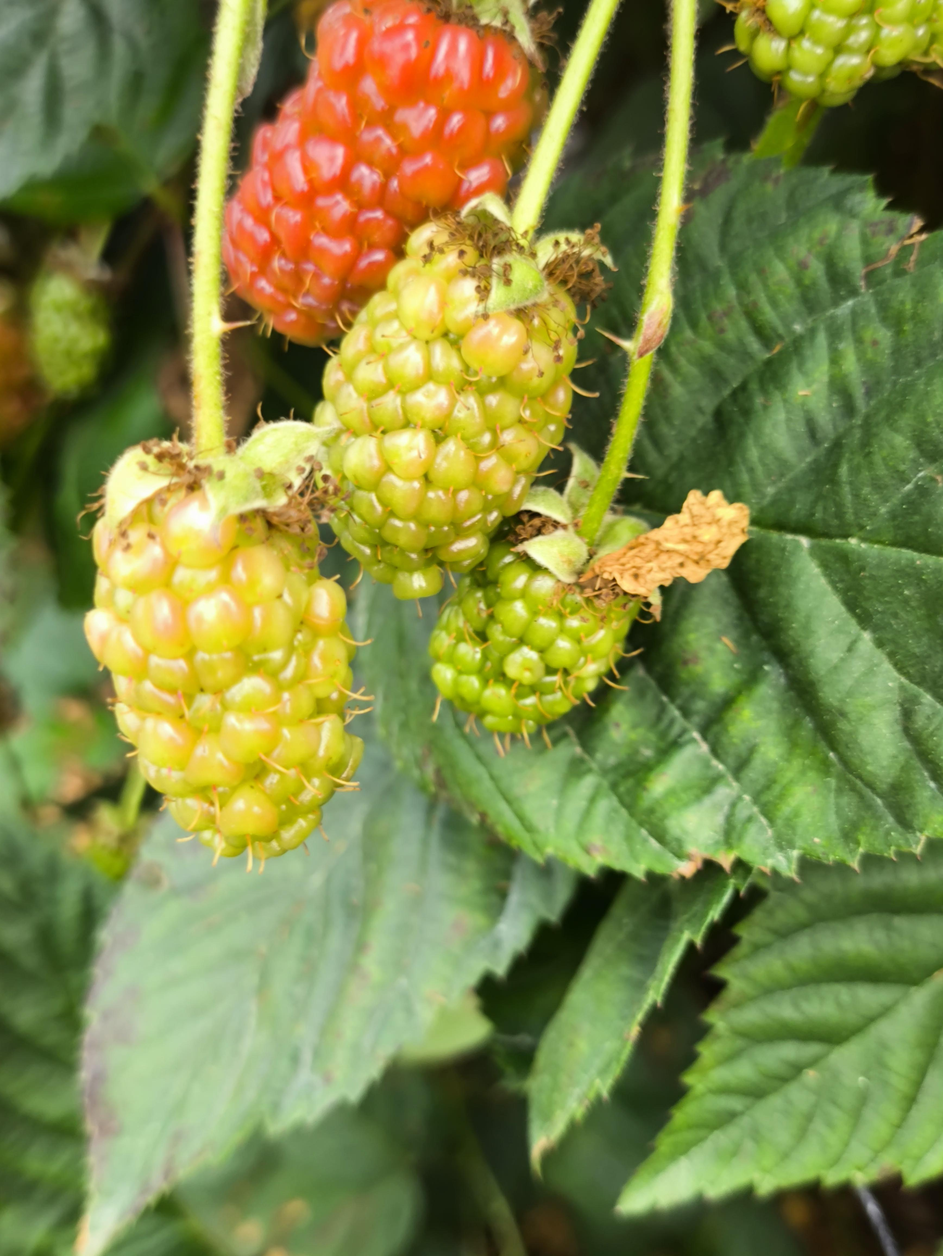naranja: (223, 0, 543, 345)
verde: (99, 452, 354, 876), (322, 234, 584, 585), (429, 540, 637, 740), (735, 0, 943, 107)
